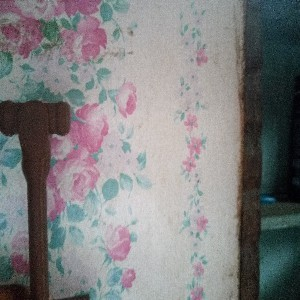palu: (1, 98, 71, 300)
